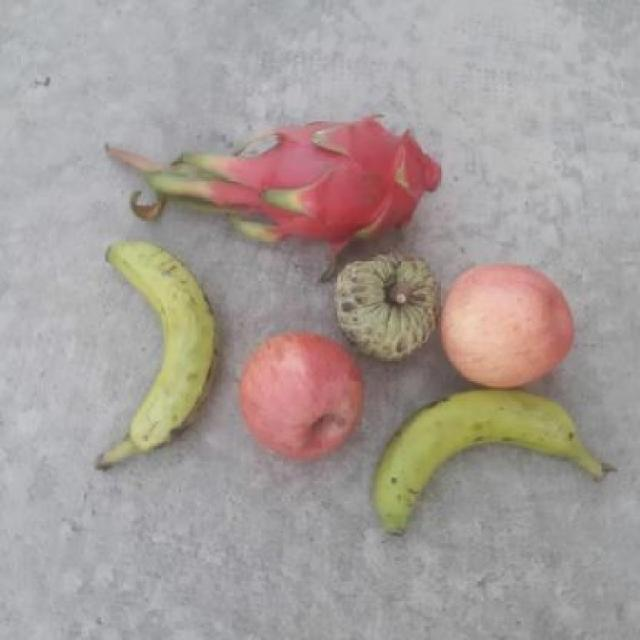apple: (442, 261, 580, 385), (248, 331, 365, 455)
banana: (69, 238, 226, 470), (369, 386, 589, 529)
dragon fruit: (230, 117, 445, 246)
sugar apple: (331, 246, 445, 366)
